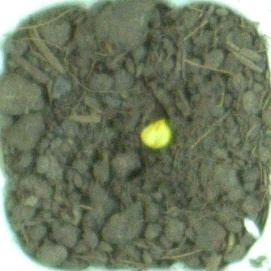chilli seed: (138, 117, 174, 150)
